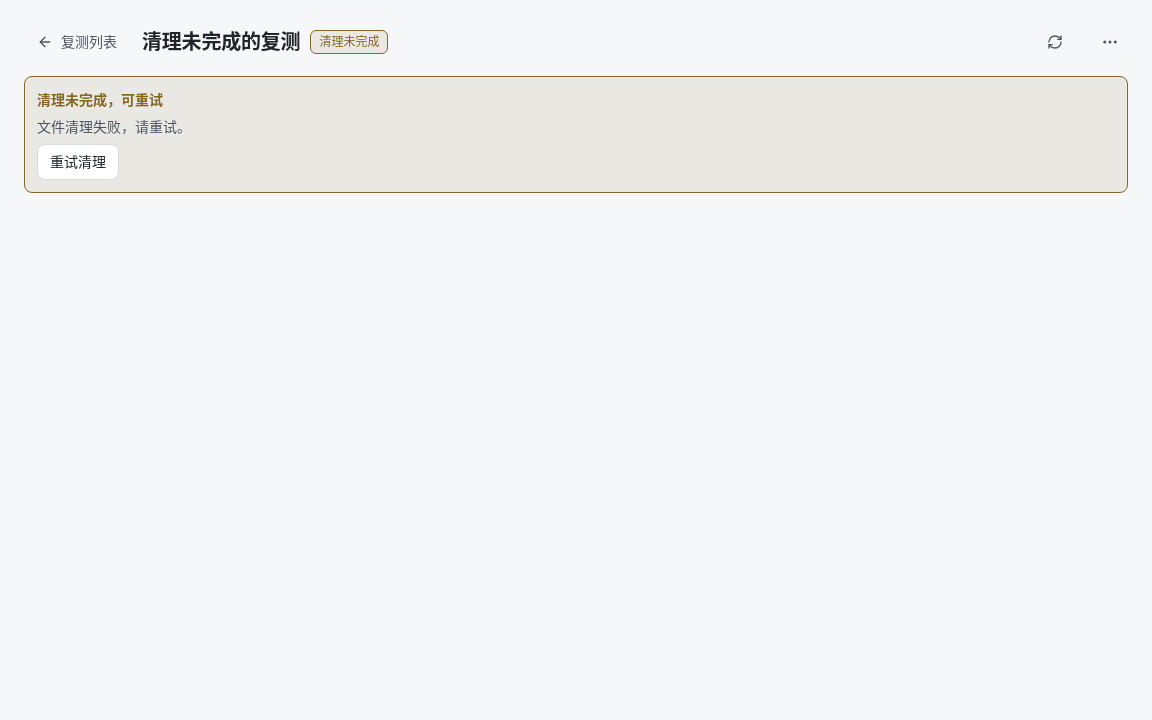
Test: 复测收尾交互边界 › 清理未完成仅显示最小投影和显式重试，不读取原档案或提供再次复测
Click the button "重试清理" at (78, 162), box [37, 144, 119, 180]
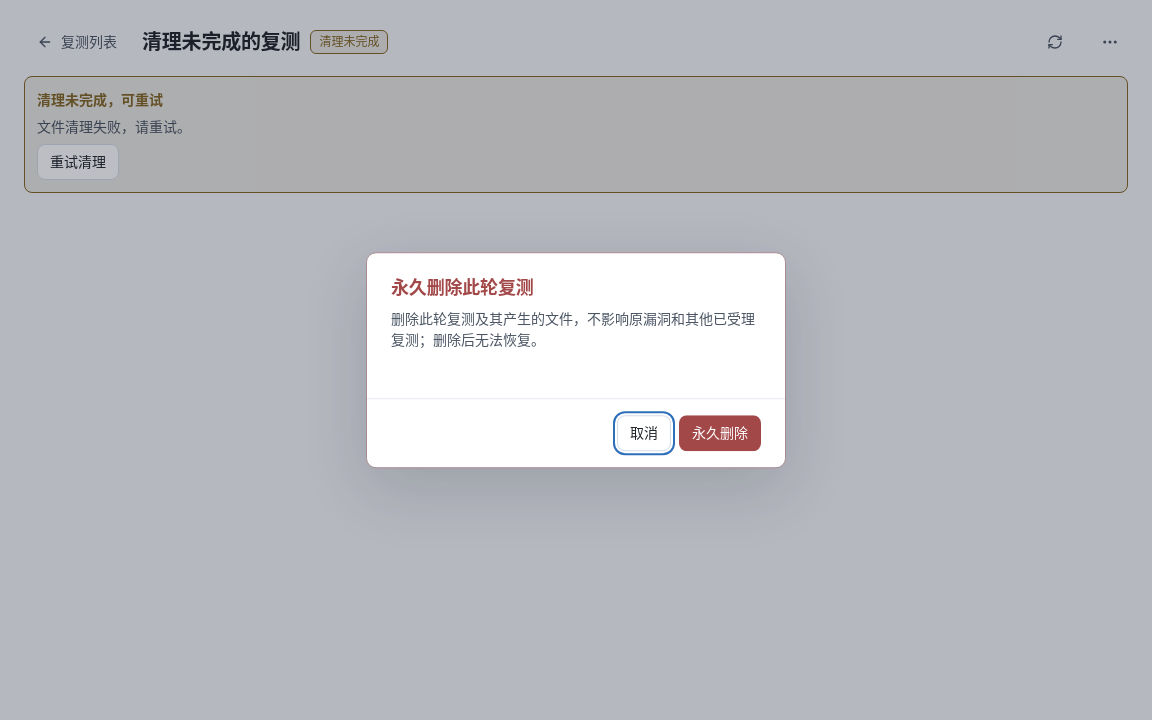
Expected: the text "永久删除此轮复测" is shown, [391, 277, 534, 298]
